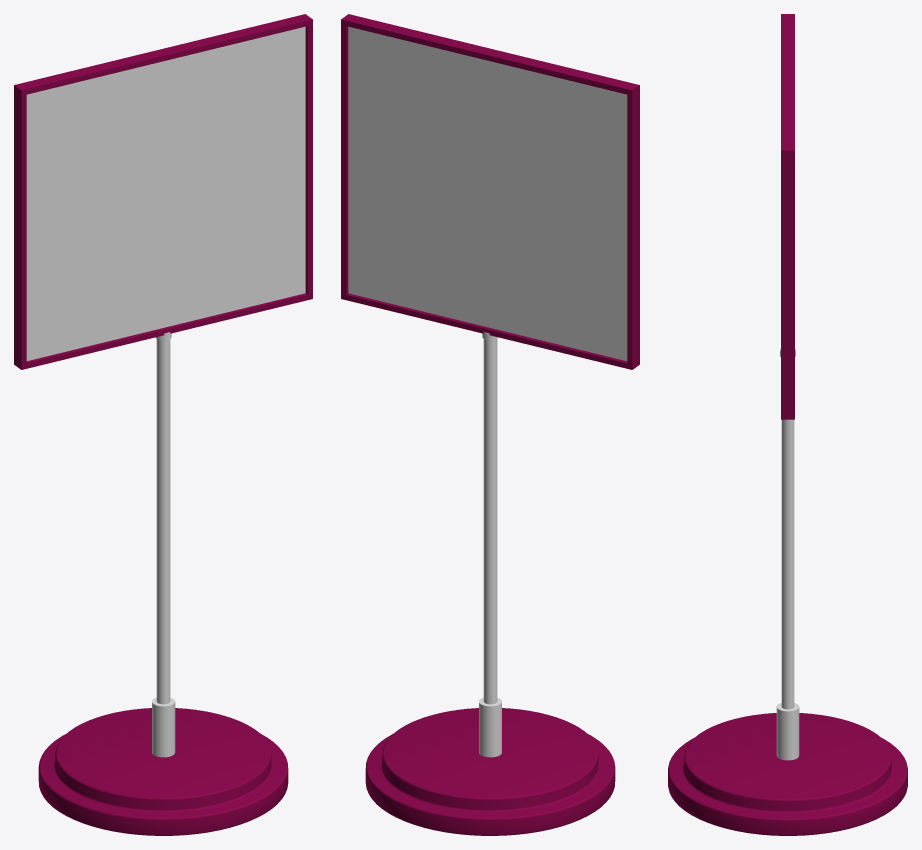
The model's file is advertisingstand2.glb.
3 renders of one model, left to right at view 1: azimuth 30°, elevation 25°; view 2: azimuth 150°, elevation 25°; view 3: azimuth 270°, elevation 25°, orthographic. The views are drawn at different scales.
Parts seen in each view (by area): view 1: Billboard_4, Stand_5, Pole_8, Stripes_7; view 2: Billboard_4, Stand_5, Pole_8, Stripes_7; view 3: Stand_5, Billboard_4, Pole_8, Stripes_7.
Boxes of the visible parts, x1=… form: Billboard_4: x1=14, y1=14, x2=312, y2=369; Stand_5: x1=38, y1=708, x2=288, y2=835; Pole_8: x1=156, y1=339, x2=170, y2=704; Stripes_7: x1=152, y1=332, x2=175, y2=757; Billboard_4: x1=341, y1=14, x2=639, y2=369; Stand_5: x1=365, y1=708, x2=615, y2=835; Pole_8: x1=483, y1=339, x2=497, y2=704; Stripes_7: x1=479, y1=332, x2=501, y2=757; Stand_5: x1=668, y1=713, x2=907, y2=835; Billboard_4: x1=781, y1=14, x2=794, y2=419; Pole_8: x1=781, y1=419, x2=794, y2=709; Stripes_7: x1=776, y1=348, x2=799, y2=760.
Size of the model in its own units: 1.1 by 2.65 by 0.8187.
